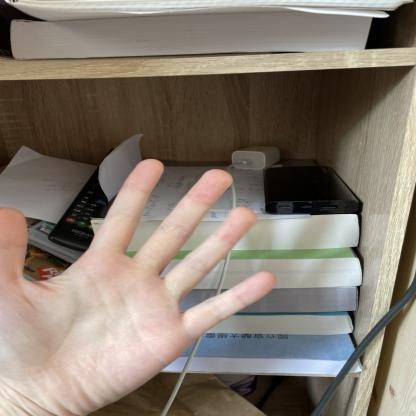bare_hand: (0, 147, 281, 416)
